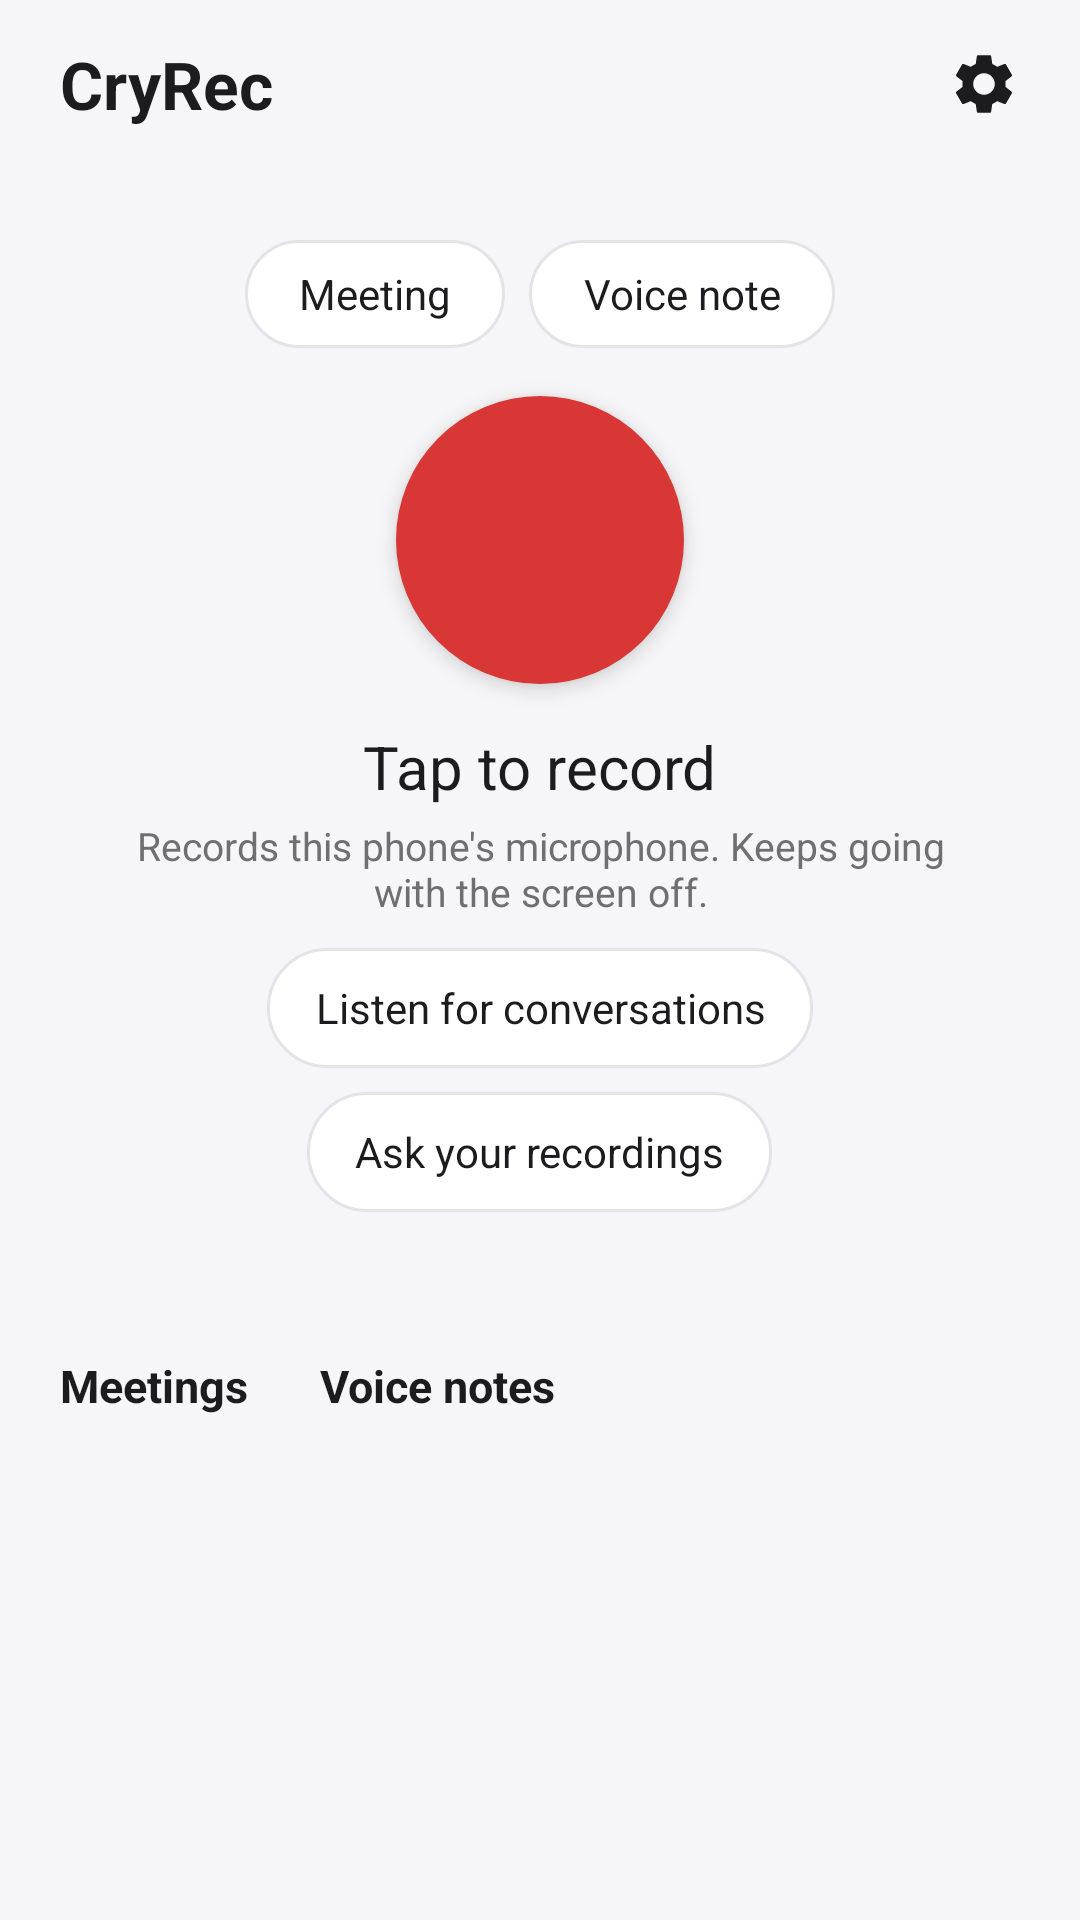

Where icons sit on this 1080px×1920px app screen, as (x1, y1, x2, y2):
Settings: (956, 55, 1012, 113)
